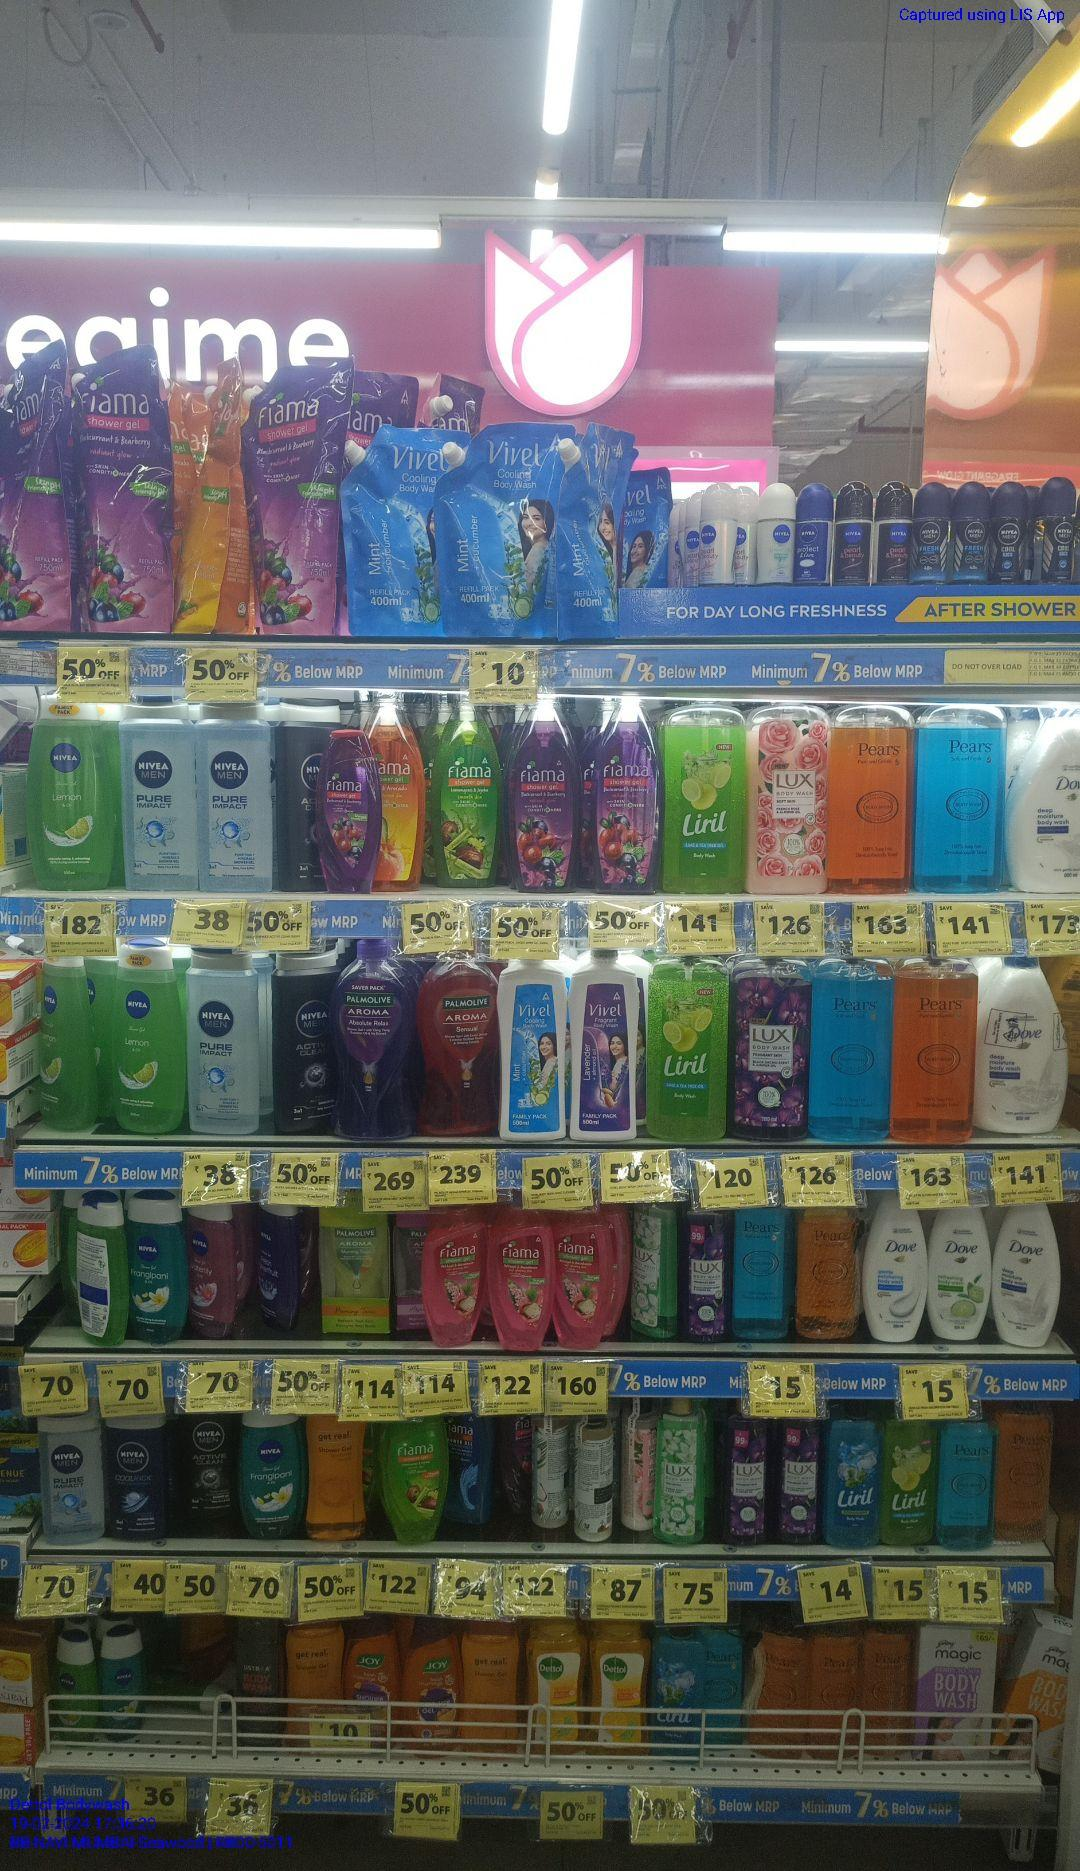Dettol_Bodywash_Refresh: (526, 1617, 584, 1759), (591, 1619, 647, 1762)
Dove_Deep_Moisture_Body_Wash_250ML: (991, 1203, 1061, 1348)
Dove_Gentle_Exfoliating_Body_Wash_250ML: (862, 1211, 924, 1343)
Dove_Refreshing_Body_Wash_250ML: (928, 1209, 988, 1344)
Fiama_Shower_Gel_Lemongrass_and_Jojoba_250ML: (383, 1418, 449, 1545)
Fiama_Shower_Gel_Patchouli_and_Macadamia_250ML: (490, 1207, 555, 1352), (423, 1212, 485, 1347), (558, 1208, 611, 1348)
Get_Real_Shower_Gel_Moisturising_Glycerin_300ML: (307, 1413, 367, 1541), (466, 1623, 520, 1760), (286, 1622, 344, 1717)
Joy_Shower_Gel_Mandarin_and_Lemongrass_250ML: (403, 1616, 462, 1758), (347, 1618, 397, 1712)
Liril_Cooling_Mint_Body_Wash_250ML: (651, 1624, 702, 1765)
Liril_Lime_and_Tea_Tree_Oil_Body_Wash_250ML: (882, 1421, 935, 1546)
Lux_Black_Orchid_Scent_and_Juniper_Oil_Body_Wash_245ML: (681, 1210, 729, 1344), (726, 1416, 770, 1547), (776, 1420, 819, 1548)
Lux_Body_Wash_Skin_Detox_Freesia_Scent_and_Alove_Vera_245ML: (653, 1397, 707, 1544), (630, 1204, 677, 1340)
Nivea_Shower_Gel_Frangipani_and_Oil_250ML: (128, 1190, 186, 1343), (239, 1412, 302, 1540), (101, 1625, 147, 1740)
Nivea_Shower_Gel_Lemon_and_Oil_250ML: (29, 697, 118, 891), (112, 952, 185, 1133), (40, 958, 98, 1131), (51, 1629, 99, 1745)
Nivea_Shower_Gel_Waterlily_and_Oil_250ML: (189, 1206, 235, 1337)
Pears_Pure_Glycerin_and_Mint_Extracts_Body_Wash_250ML: (732, 1210, 792, 1340), (938, 1423, 994, 1549)
